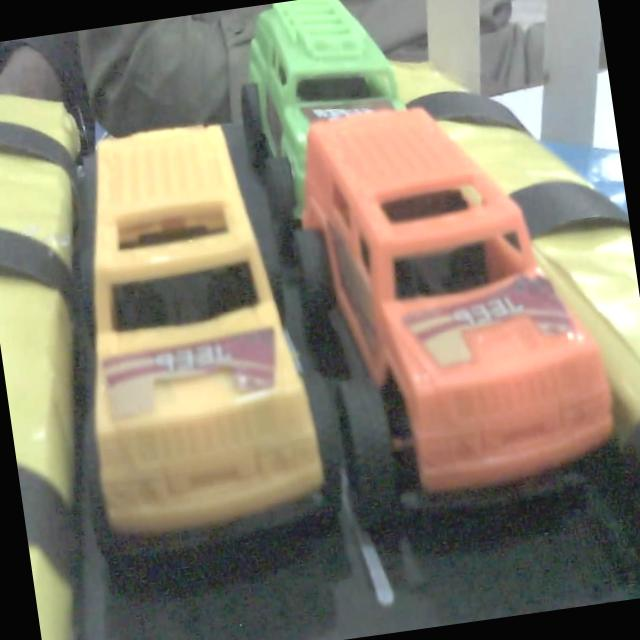ThreeCar: (261, 89, 628, 518), (57, 99, 350, 562), (229, 0, 430, 225)
